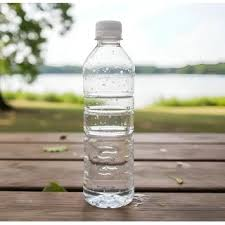Botella: (83, 21, 134, 207)
